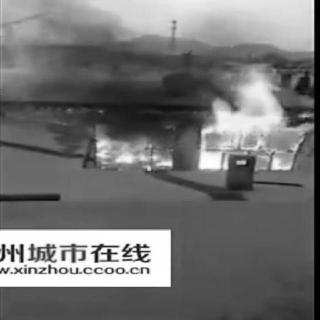Fire: (41, 36, 307, 184)
